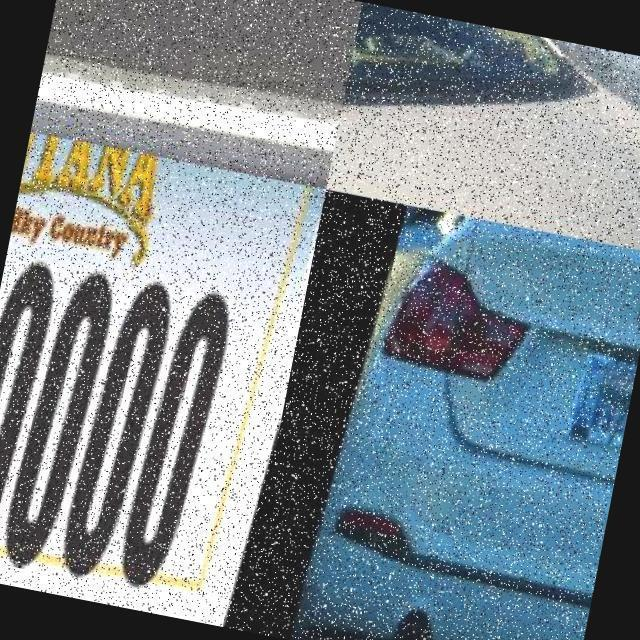license-plate: (37, 119, 304, 622)
